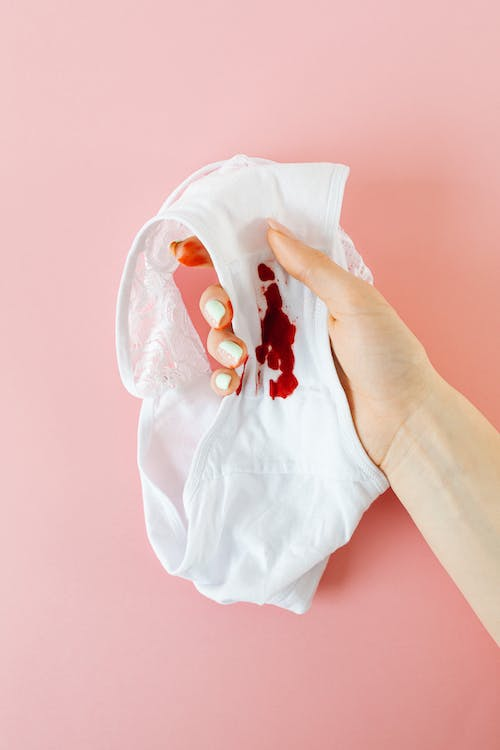blood: (235, 259, 301, 401), (170, 232, 214, 269)
